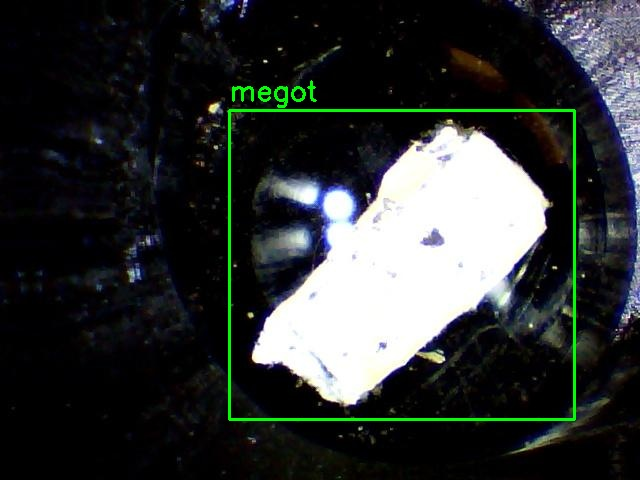megot: (229, 110, 574, 419)
